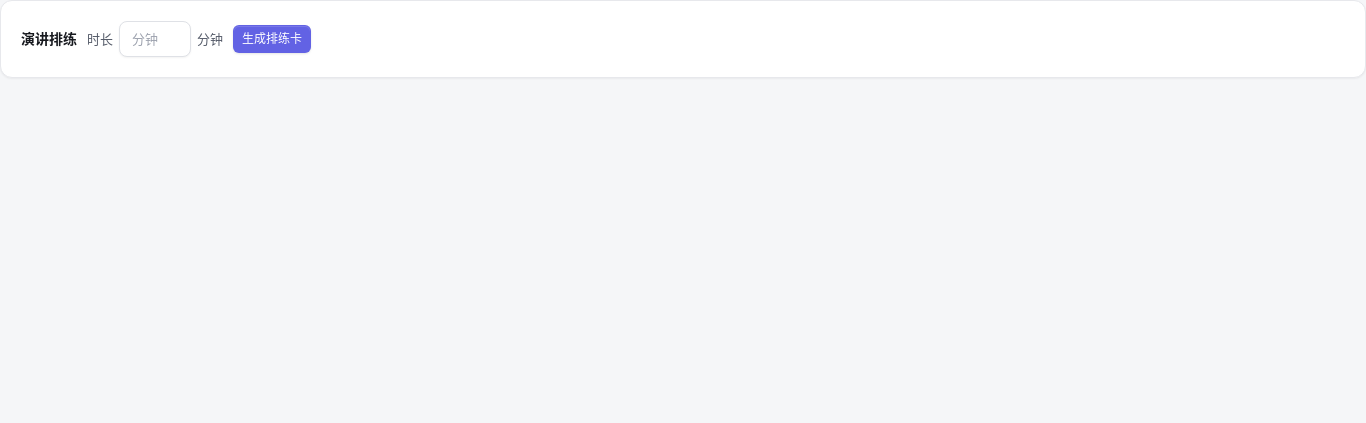
Scenario: 排练卡展示每页预算与有出处的问答
The image size is (1366, 423).
Later steps or results of the test are not shown.
Click the button "生成排练卡" at coordinates (272, 39), box [233, 25, 311, 53]
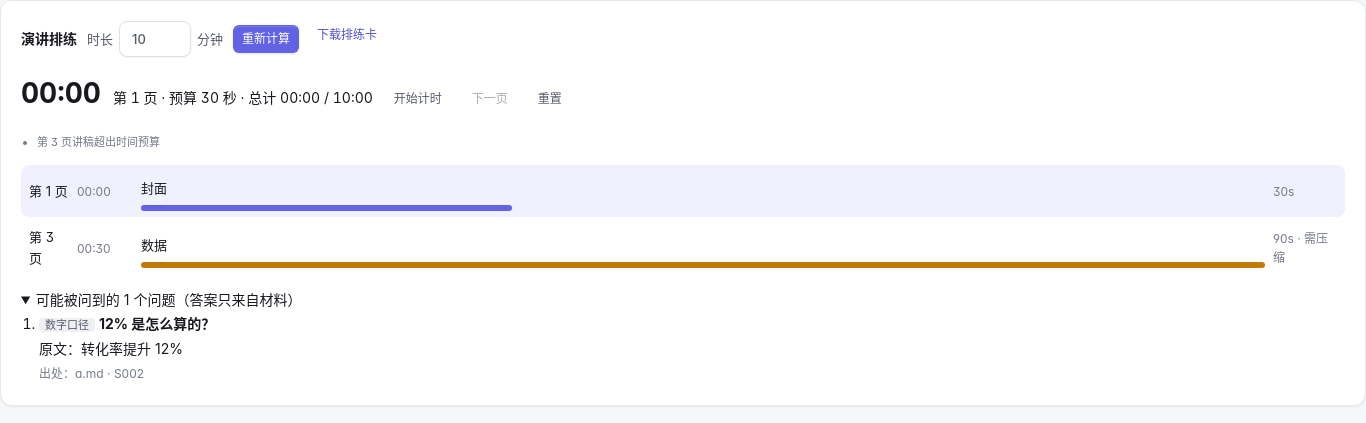
Expected: the text "12% 是怎么算的？" is shown, [99, 315, 215, 332]
Expected: the text "出处：a.md · S002" is shown, [39, 366, 144, 381]
Expected: the text "90s · 需压缩" is shown, [1273, 229, 1337, 267]
